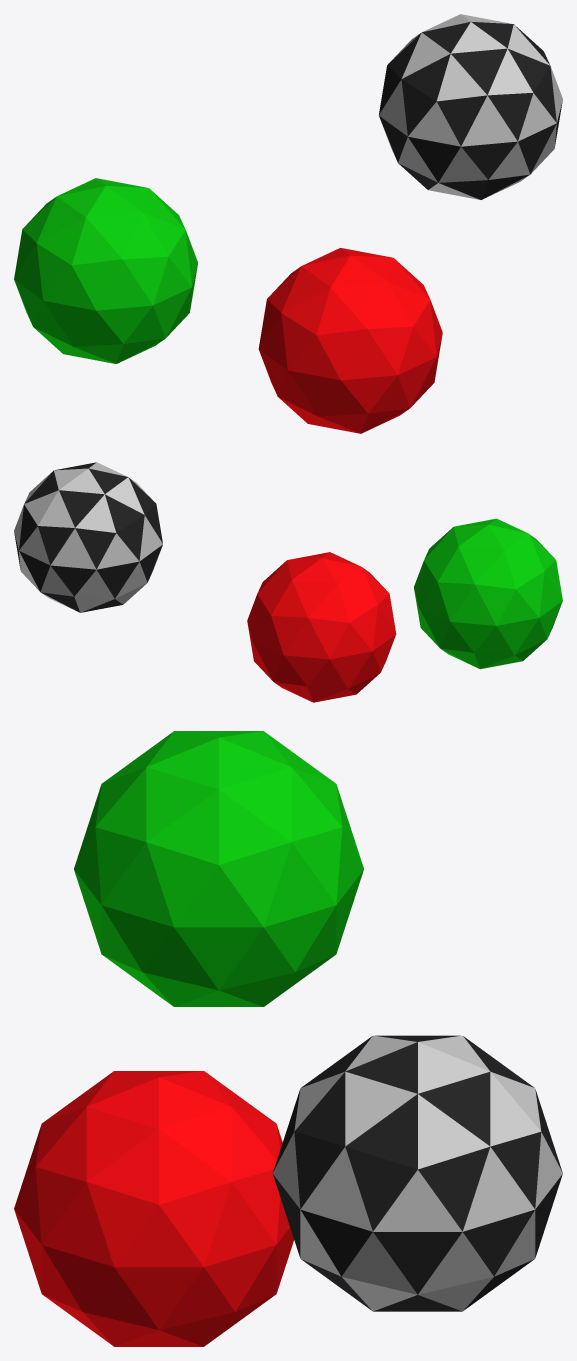
File: iso.obj
The picture shows the model from 3 angles, top to bottom: view 1: azimuth 30°, elevation 25°; view 2: azimuth 150°, elevation 25°; view 3: azimuth 270°, elevation 25°; orthographic projection. The views are drawn at different scales.
Parts seen in each view (by area): view 1: Icosphere.002, Icosphere.001, Icosphere; view 2: Icosphere.002, Icosphere, Icosphere.001; view 3: Icosphere.002, Icosphere.001, Icosphere.
Part boxes in pixels (box(x1,y1,x2,y2)): Icosphere.002: box(378, 14, 562, 199); Icosphere.001: box(14, 178, 197, 363); Icosphere: box(258, 248, 442, 433); Icosphere.002: box(14, 462, 162, 612); Icosphere: box(247, 552, 396, 702); Icosphere.001: box(414, 518, 562, 669); Icosphere.002: box(272, 1035, 562, 1311); Icosphere.001: box(74, 731, 363, 1006); Icosphere: box(14, 1071, 293, 1346).
Size of the model in its own units: 7.17 by 3.44 by 3.78.
